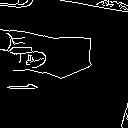cube: (34, 24, 97, 89)
